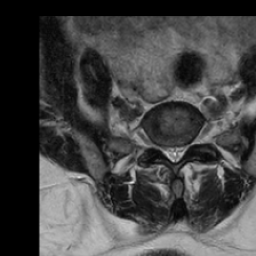CCS_stenosis: (171, 138, 178, 167)
LFS_severe_stenosis: (184, 135, 192, 153)
LLS_normal: (178, 139, 185, 163)
RFS_stenosis: (152, 135, 162, 156)
RLS_normal: (162, 138, 171, 163)
